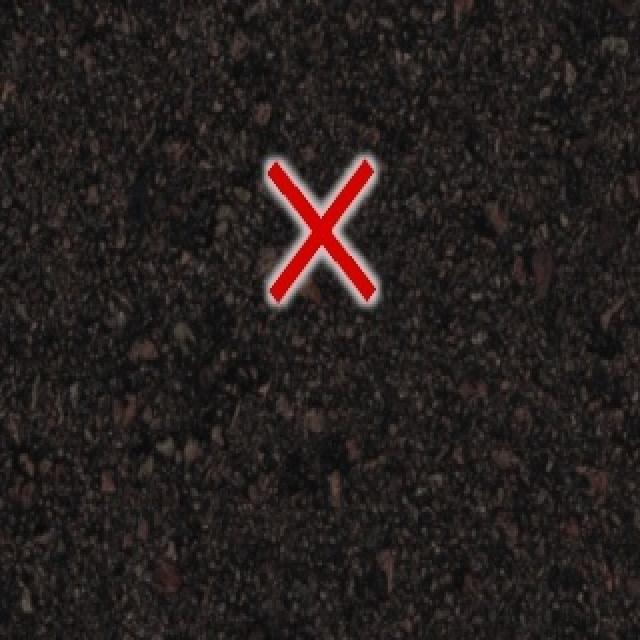x_marker: (267, 159, 375, 300)
